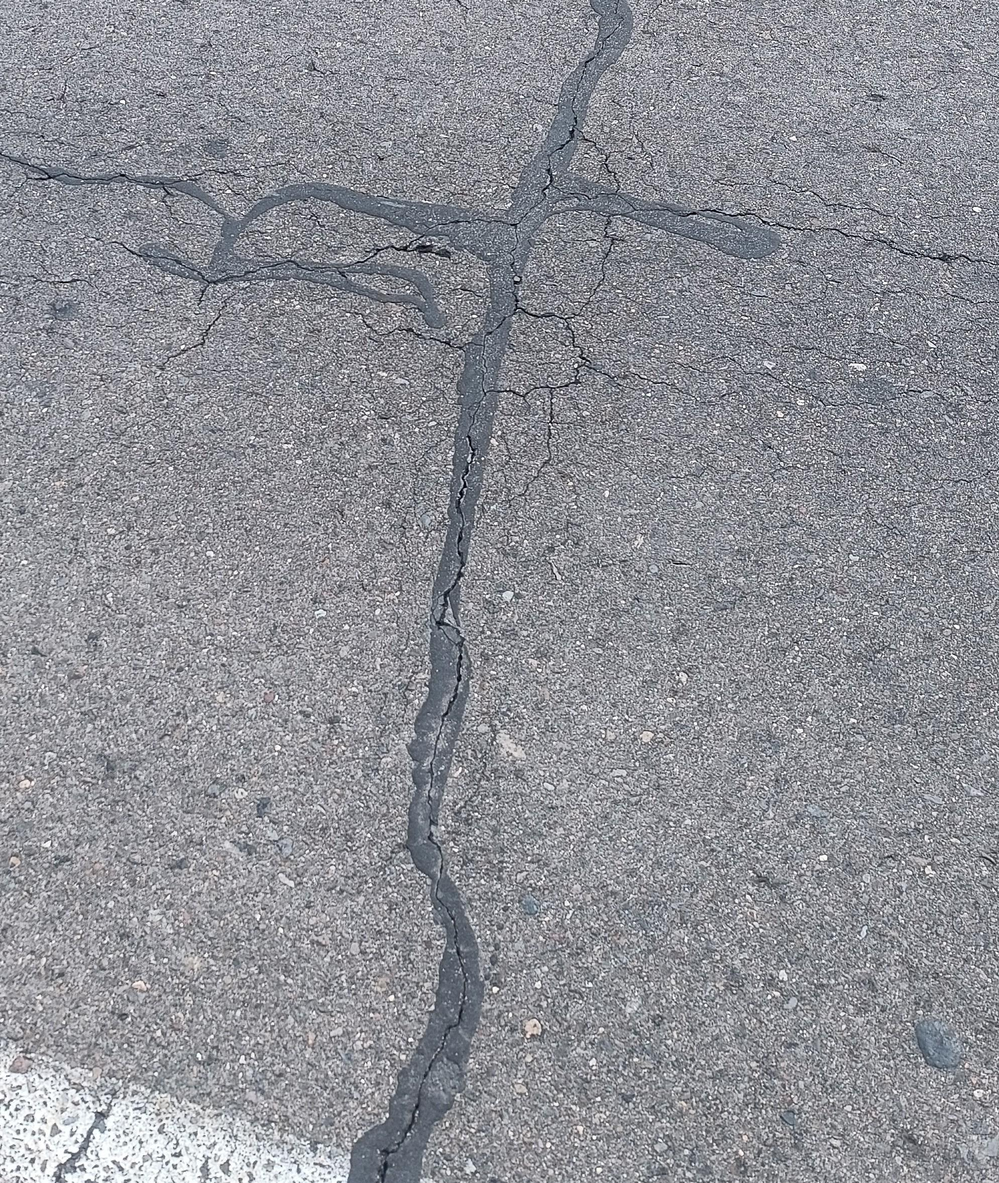GRIETA: (377, 433, 476, 1182), (681, 206, 967, 263), (568, 0, 629, 107), (777, 181, 894, 218), (27, 173, 158, 185), (0, 153, 51, 177)
PIEL DE COCODRILO: (95, 109, 659, 504), (664, 276, 986, 433)
